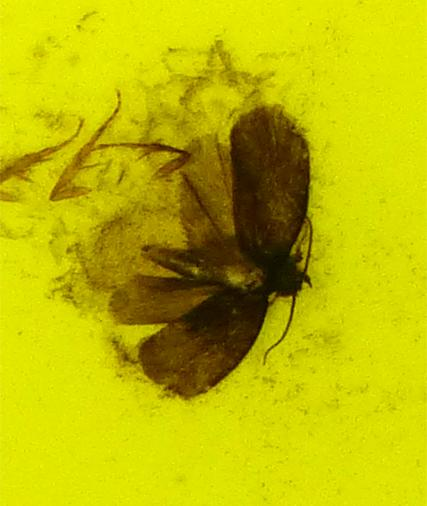Lepidoptera: (100, 100, 327, 406)
